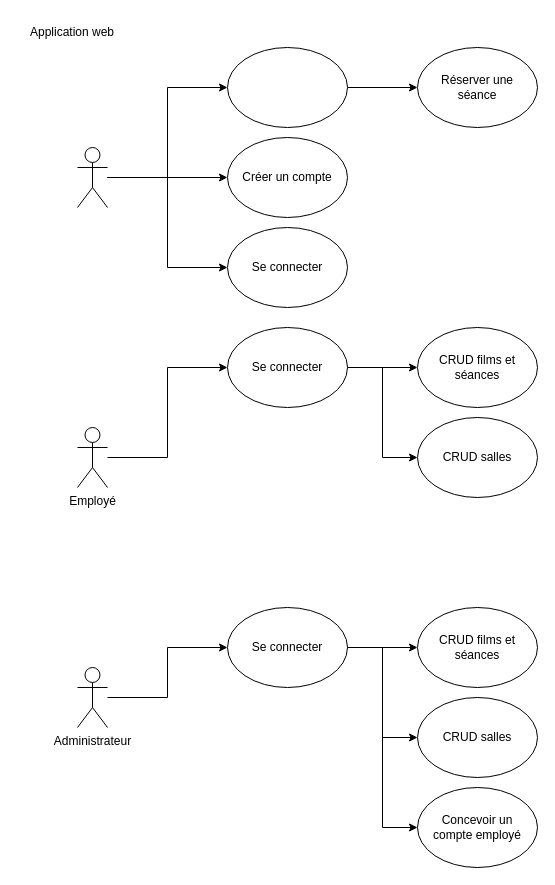
The diagram is 555 pixels wide and 885 high, and some of its shapes have lost their labels. The shapes that lost their labels are listed below. From the top down, each one's centre as x and y in pixels, then its label:
At (287,87): "Visualiser les derniers films ajoutés".
At (92,177): "Visiteur".
